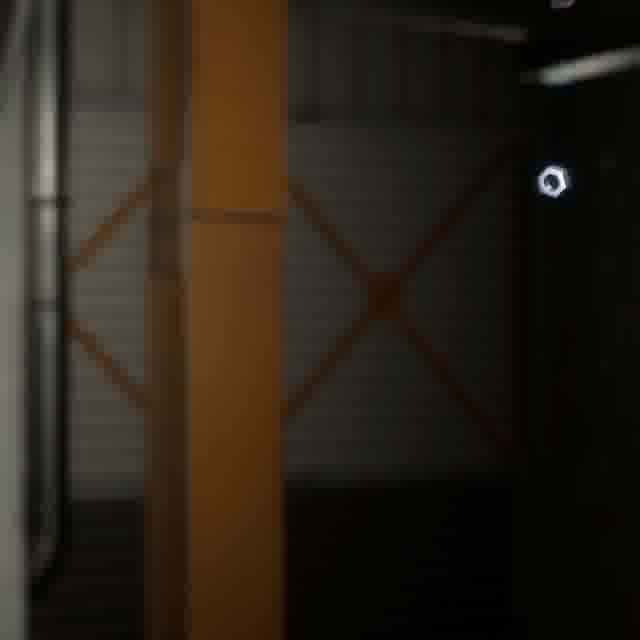nut: (532, 160, 575, 202)
